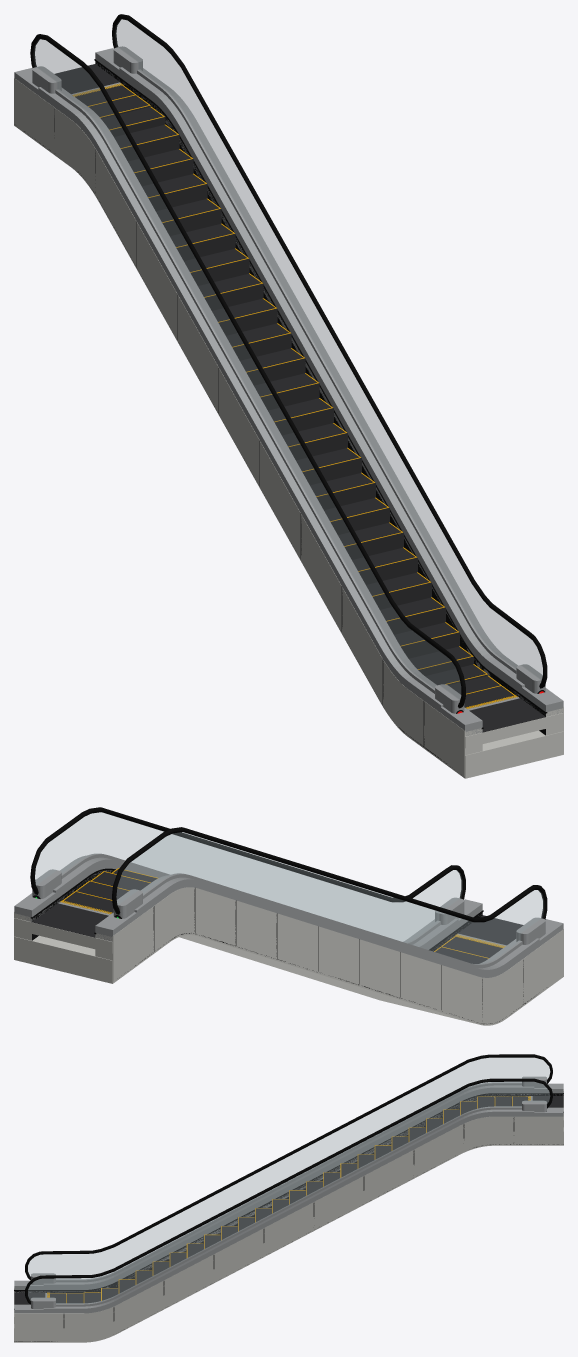
Rendered from gteki_escalator_s1000_r5000_down.glb.
3 renders of one model, top to bottom at view 1: azimuth 30°, elevation 25°; view 2: azimuth 150°, elevation 25°; view 3: azimuth 270°, elevation 25°, orthographic. The views are drawn at different scales.
Visible parts, largest first — view 1: VIS_body; view 2: VIS_body; view 3: VIS_body.
Boxes of the visible parts, x1,y1,x2,y2 form: VIS_body: (14, 14, 563, 778); VIS_body: (14, 807, 563, 1025); VIS_body: (14, 1054, 563, 1342).
Size of what is drawn, in the model's own units: 1.61 by 6.63 by 12.66.
2 materials, 2 textured.
